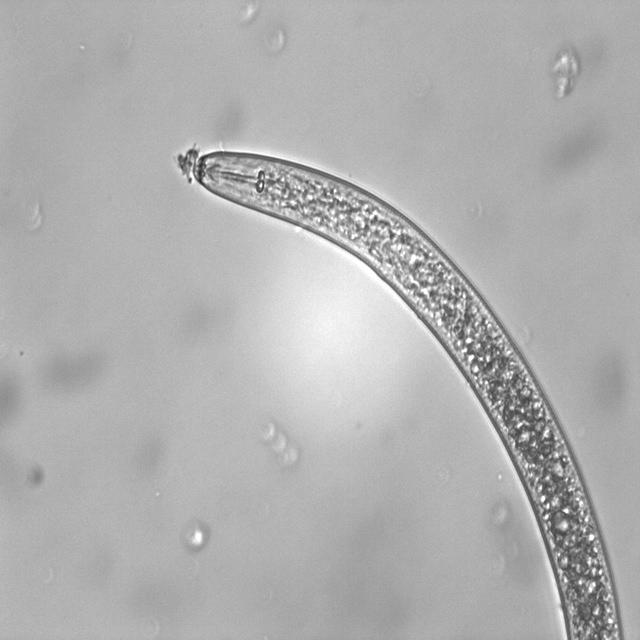Helicotylenchus: (193, 146, 628, 640)
